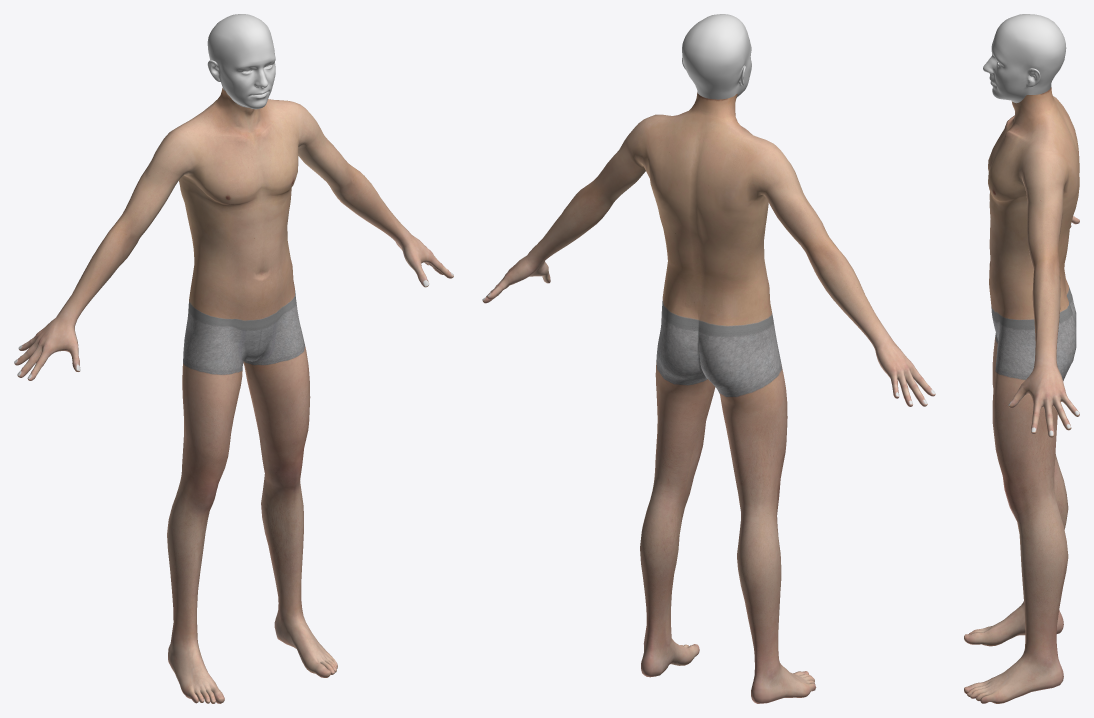
The picture shows the model from 3 angles, left to right: view 1: azimuth 30°, elevation 25°; view 2: azimuth 150°, elevation 25°; view 3: azimuth 270°, elevation 25°; orthographic projection. The views are drawn at different scales.
Visible parts, largest first — view 1: man_body, head; view 2: man_body, head; view 3: man_body, head.
Part boxes in pixels (left/top/right/bottom): man_body: left=14, top=88, right=453, bottom=703; head: left=207, top=14, right=275, bottom=109; man_body: left=482, top=92, right=935, bottom=703; head: left=682, top=14, right=751, bottom=99; man_body: left=964, top=87, right=1079, bottom=703; head: left=983, top=14, right=1066, bottom=103.
Bounding box in the file's own units: 127 × 186 × 29.82.
